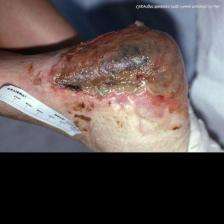Wound: (53, 21, 197, 114)
